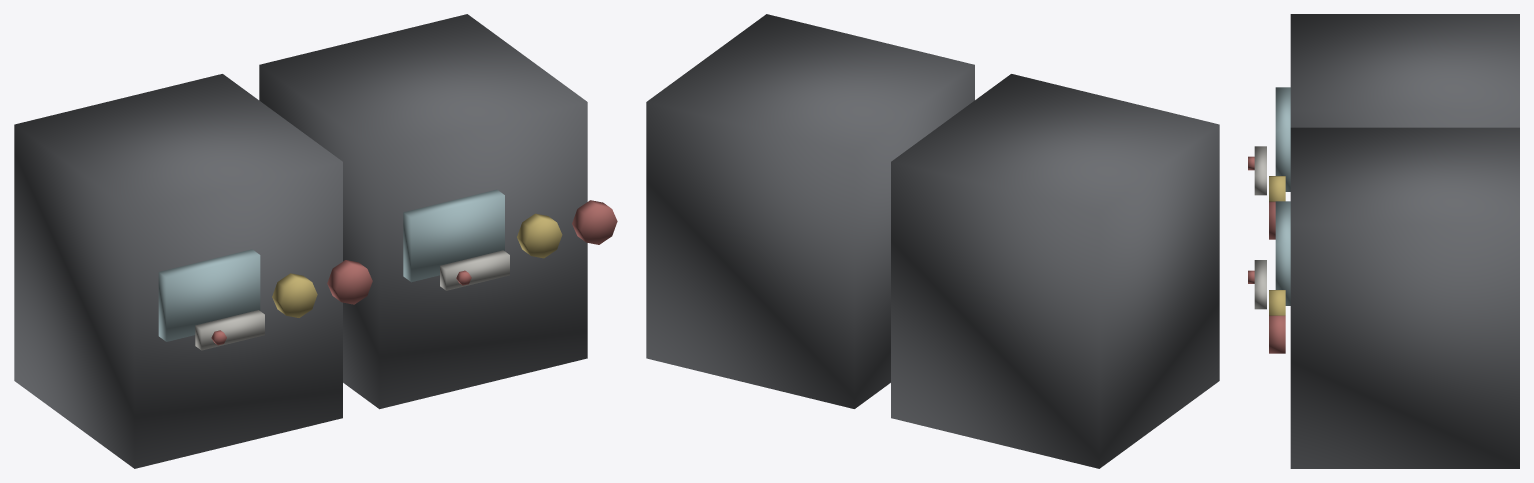
File: multimeter_station__cluster.glb
3 renders of one model, left to right at view 1: azimuth 30°, elevation 25°; view 2: azimuth 150°, elevation 25°; view 3: azimuth 270°, elevation 25°, orthographic. The views are drawn at different scales.
Visible parts, largest first — view 1: world; view 2: world; view 3: world.
Part boxes in pixels (x1,y1,x2,y2): world: [14, 14, 617, 468]; world: [646, 14, 1219, 468]; world: [1248, 14, 1519, 468].
Size of the model in its own units: 0.7696 by 0.4 by 0.4035.
